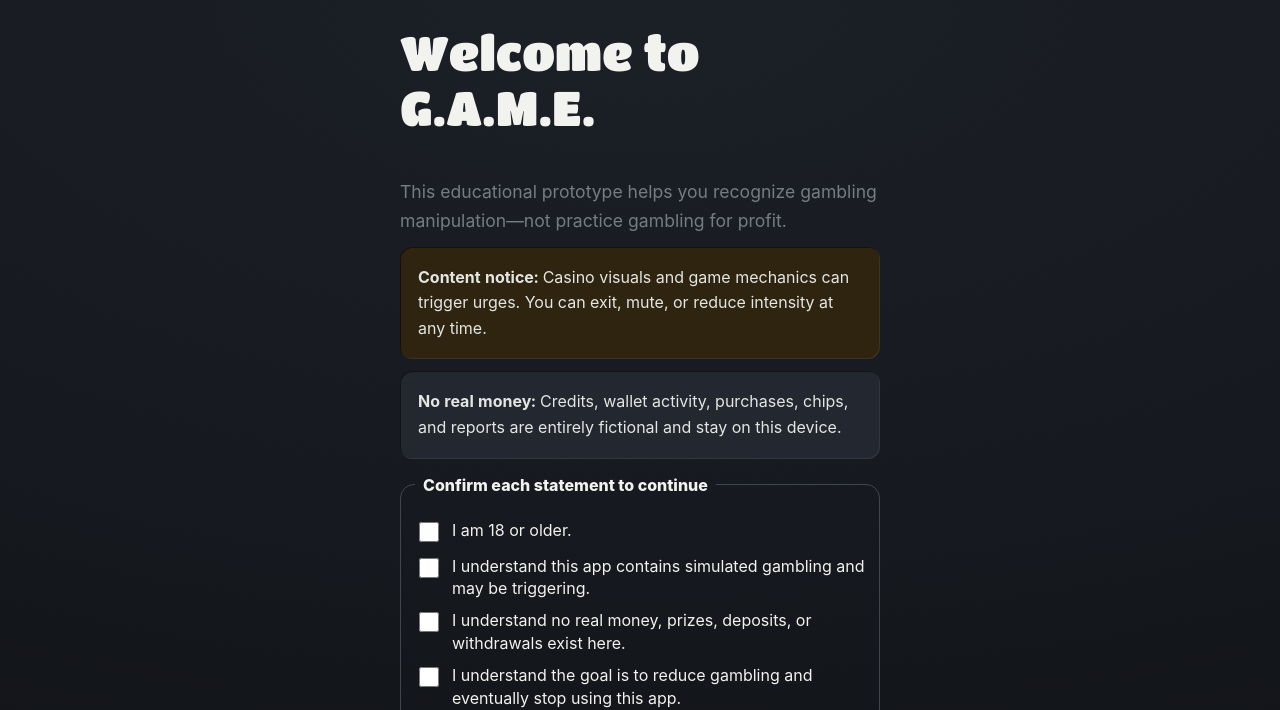
Scenario: G.A.M.E. dark/light theme › defaults to theme-dark with the Light theme checkbox unchecked
The width and height of the screenshot is (1280, 710).
Click the checkbox labelled "I am 18 or older." at (429, 532), box 419,522 -> 439,542
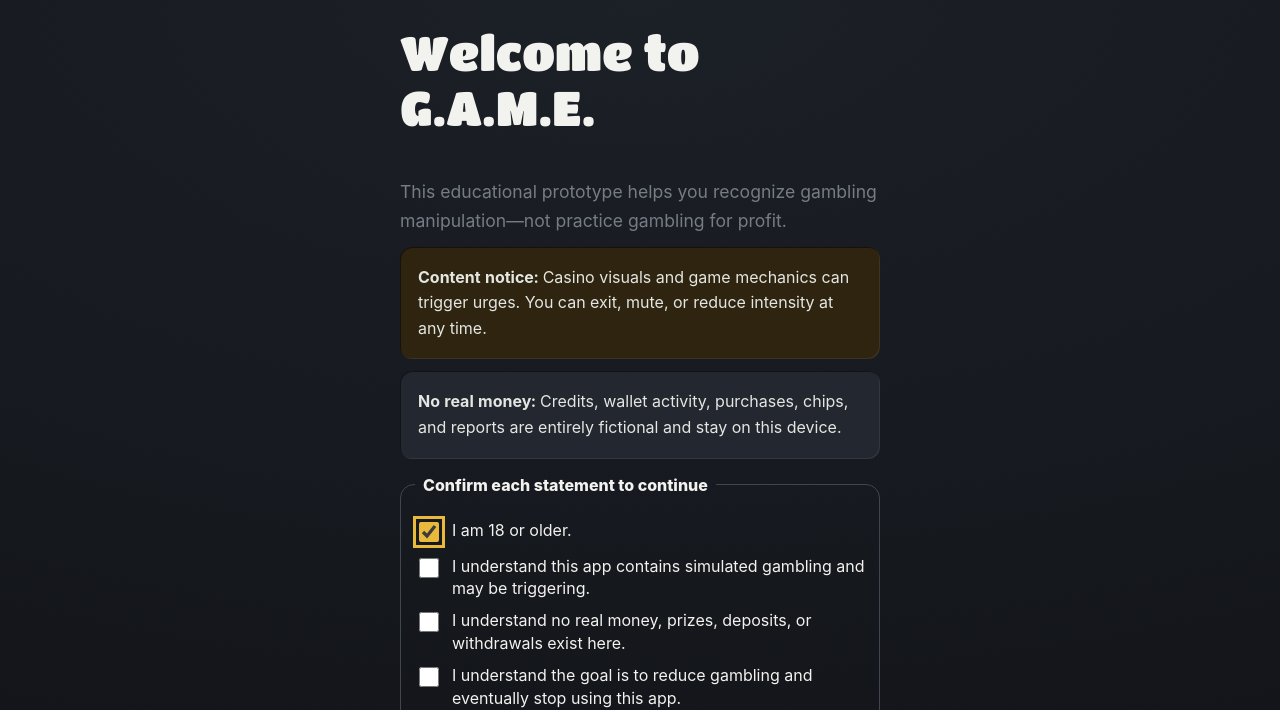
Click the 2nd checkbox at (429, 568), box 419,558 -> 439,578
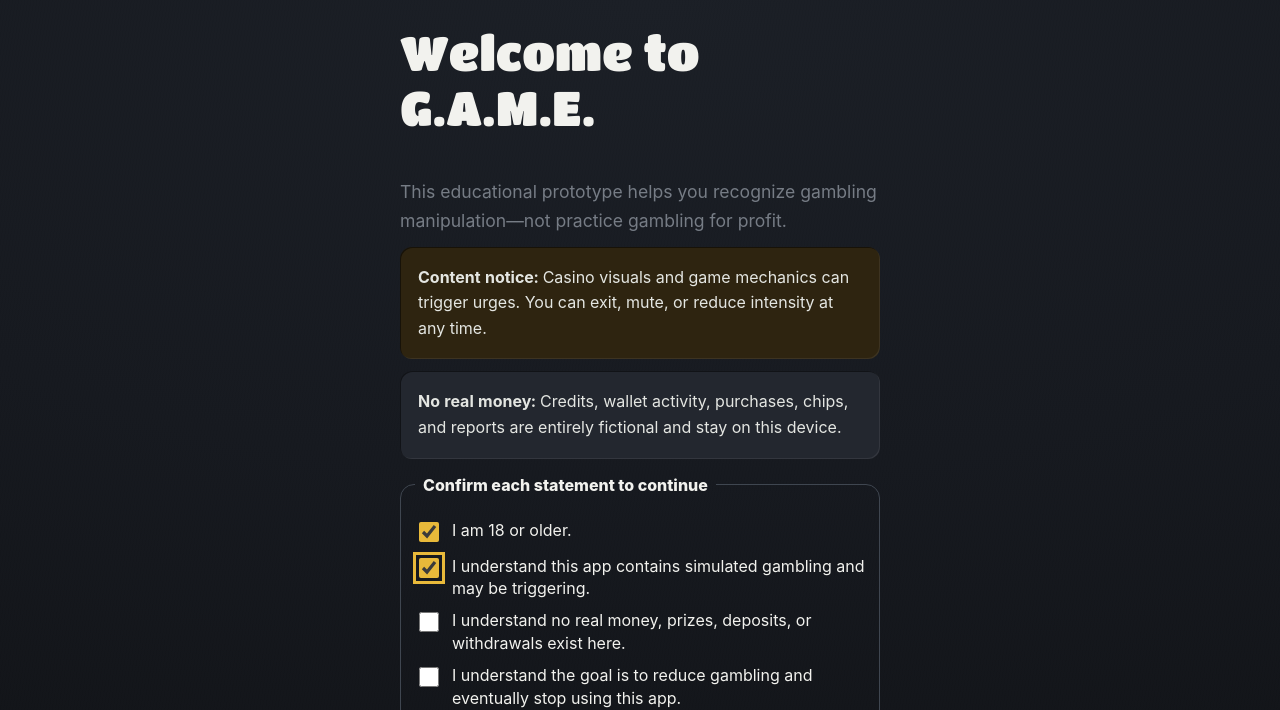
Click the 3rd checkbox at (429, 622), box 419,612 -> 439,632
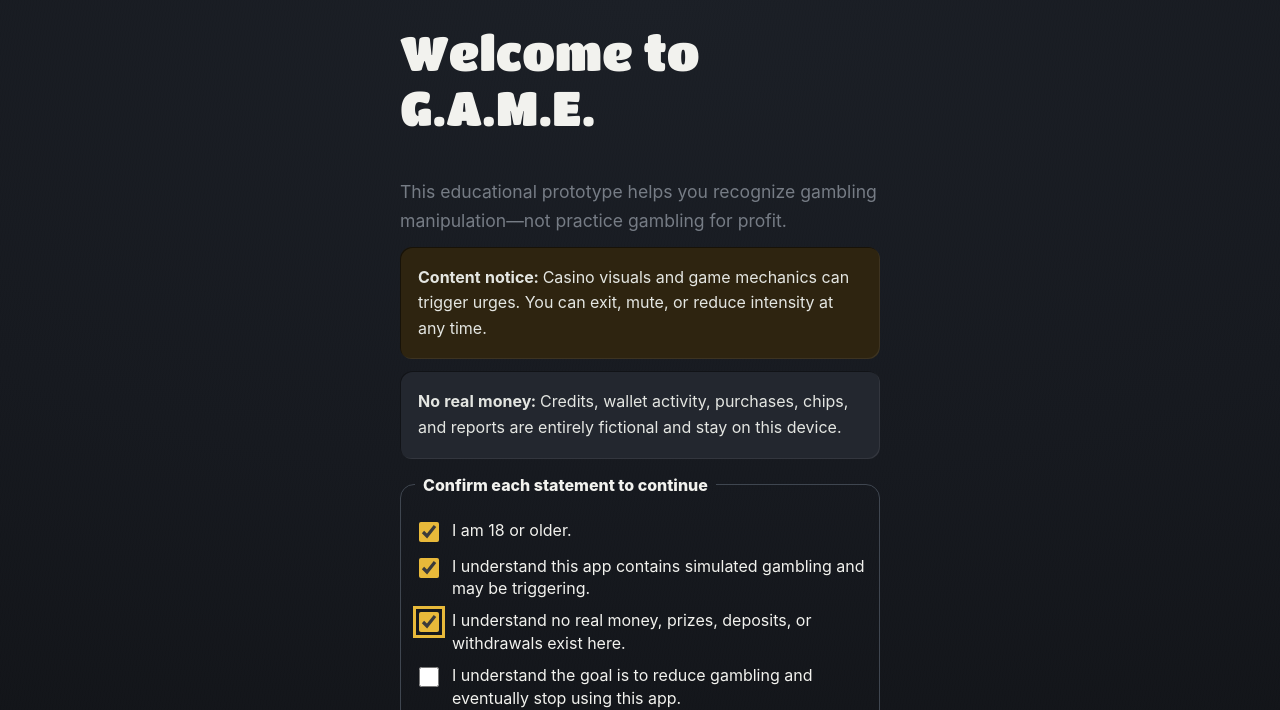
Click the 4th checkbox at (429, 677), box 419,667 -> 439,687
(page scrolled)
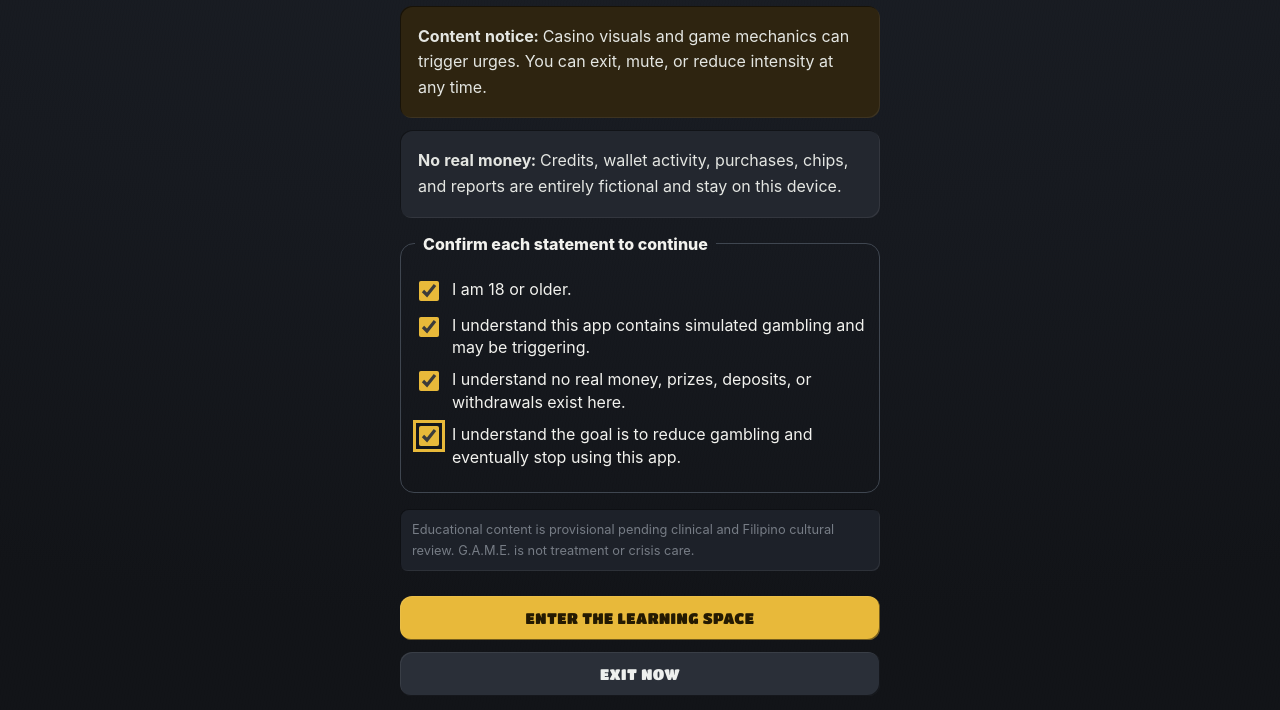
Click the button "Enter the learning space" at (640, 618), box 400,596 -> 880,640
(page scrolled)
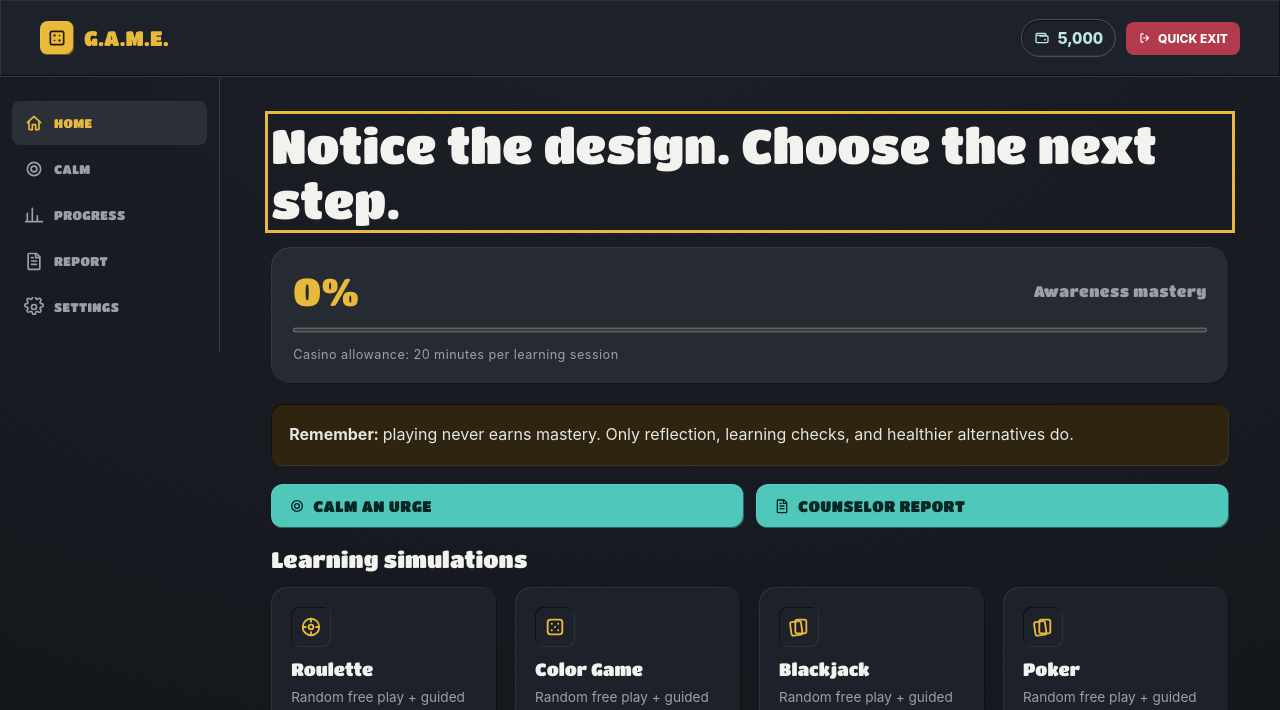
Click the button "Settings" at (110, 307), box 12,285 -> 207,329
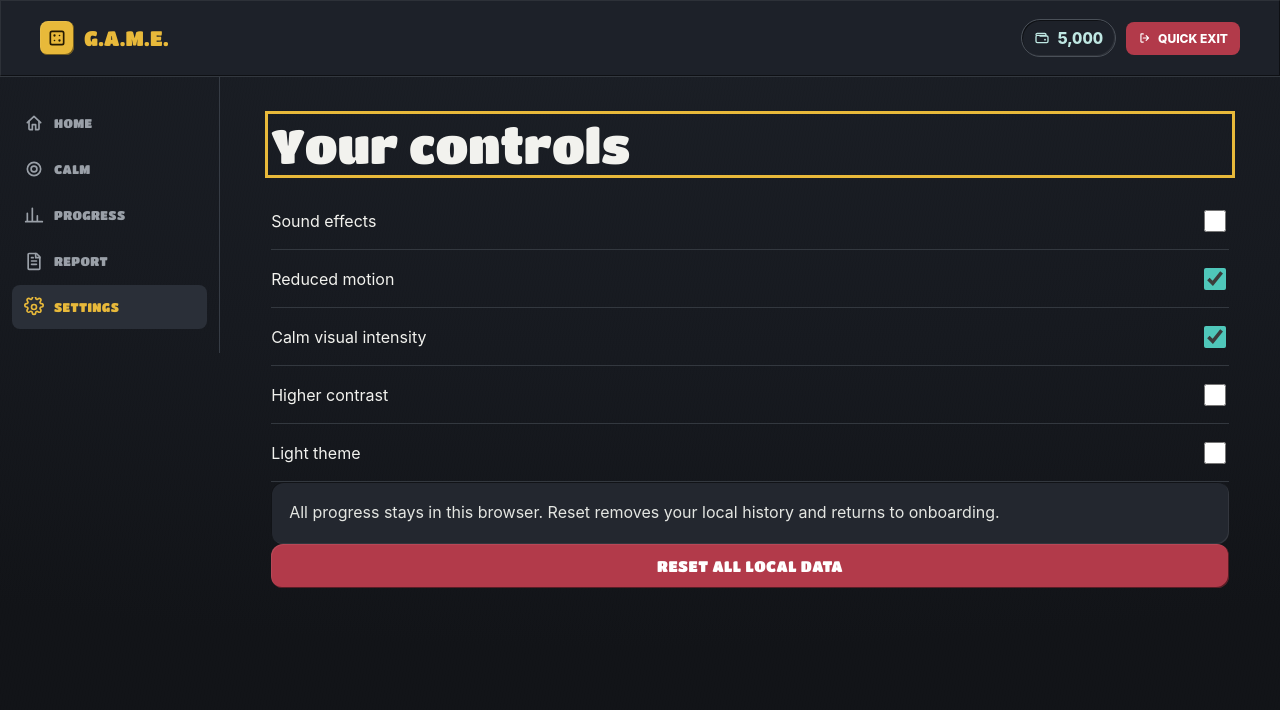
Now the checkbox labelled "Light theme" is not checked, box 1204,442 -> 1226,464
